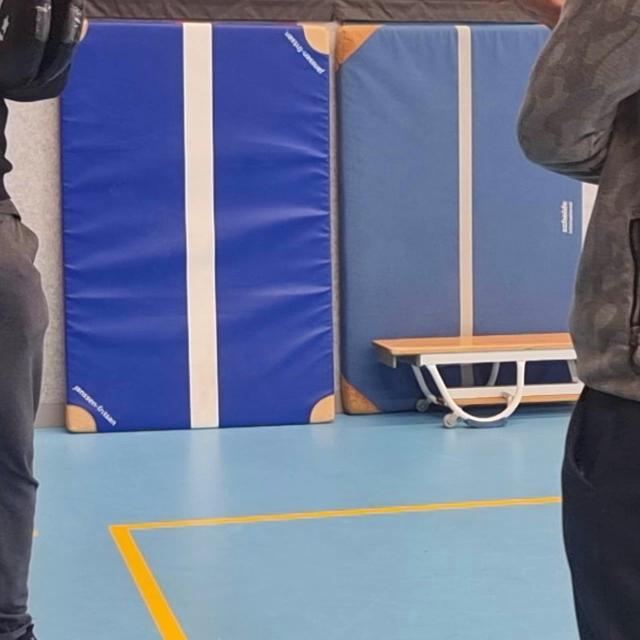paddle: (0, 0, 80, 88)
